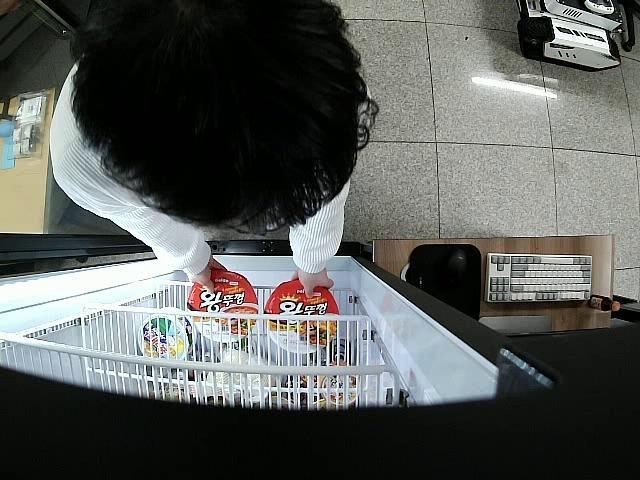10_wangTtukkeong: (187, 270, 260, 343), (268, 282, 340, 351)
